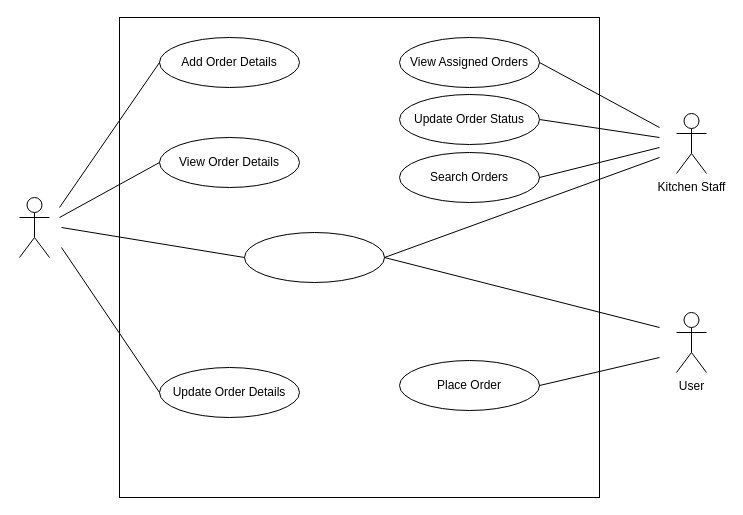
Image size: 743x515. Some labels were removed from this diagram. Here are the shapes that lost their labels. From the top down, the box of each, then its label:
(18, 196, 50, 258): Admin
(244, 232, 384, 282): Create Account
